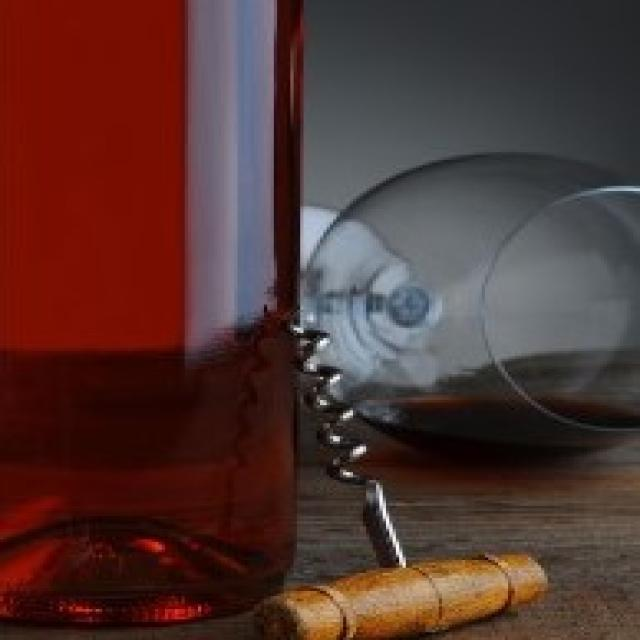electronic: (2, 1, 297, 622), (292, 142, 640, 466)
